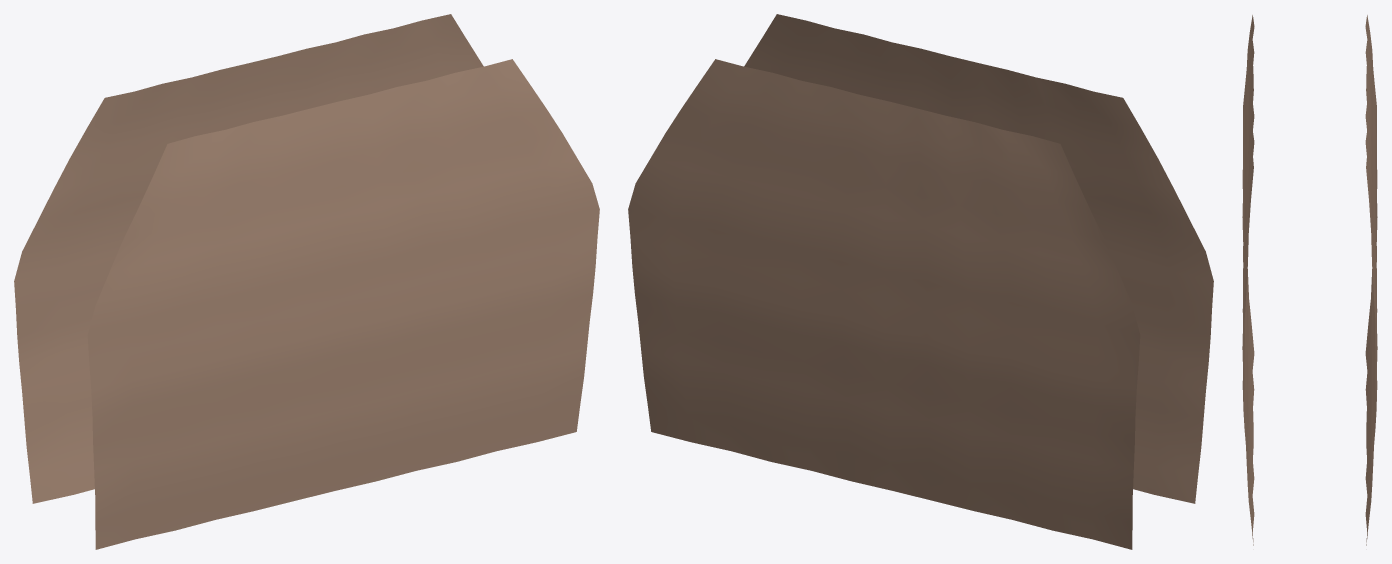
The model's file is fallback.glb.
3 views of the same model, side by side, from view 1: azimuth 30°, elevation 25°; view 2: azimuth 150°, elevation 25°; view 3: azimuth 270°, elevation 25° (orthographic). The views are drawn at different scales.
Visible parts, largest first — view 1: simulation:clean:manual-sleeveless-03.front, simulation:clean:manual-sleeveless-03.back; view 2: simulation:clean:manual-sleeveless-03.back, simulation:clean:manual-sleeveless-03.front; view 3: simulation:clean:manual-sleeveless-03.front, simulation:clean:manual-sleeveless-03.back.
Boxes of the visible parts, x1,y1,x2,y2 form: simulation:clean:manual-sleeveless-03.front: (87, 59, 599, 549); simulation:clean:manual-sleeveless-03.back: (14, 14, 483, 503); simulation:clean:manual-sleeveless-03.back: (628, 59, 1140, 549); simulation:clean:manual-sleeveless-03.front: (744, 14, 1213, 503); simulation:clean:manual-sleeveless-03.front: (1242, 15, 1254, 545); simulation:clean:manual-sleeveless-03.back: (1365, 15, 1377, 545).
Size of the model in its own units: 1.02 by 0.74 by 0.2561.
